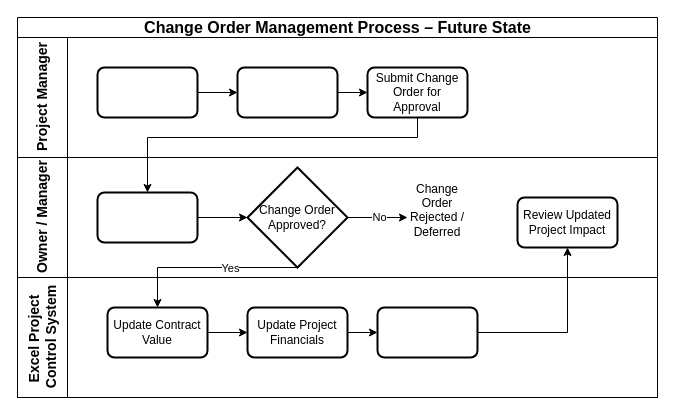
Image size: 675x415. Some labels were removed from this diagram. Here are the shapes that lost their labels. From the top down, the centre of each, then its label:
At point (147, 92): "Identify Scope Change".
At point (287, 92): "Prepare Change Order".
At point (147, 217): "Review Change Order".
At point (427, 332): "Update KPIs & Dashboard".
